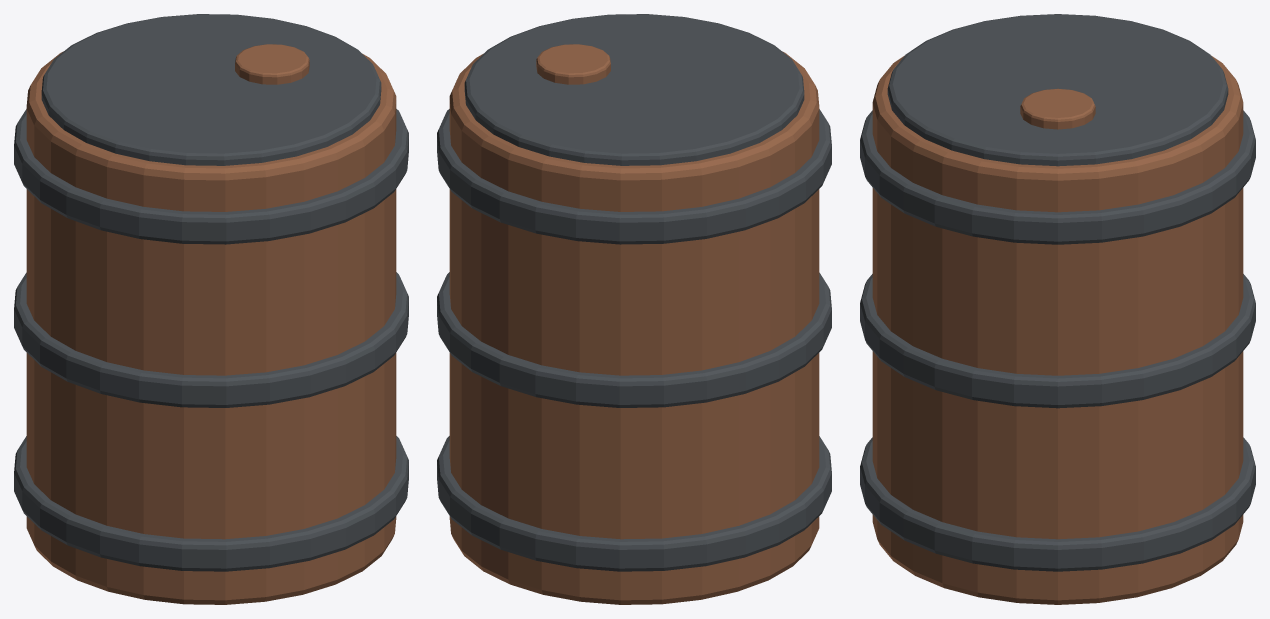
The model's file is barrel.glb.
3 renders of one model, left to right at view 1: azimuth 30°, elevation 25°; view 2: azimuth 150°, elevation 25°; view 3: azimuth 270°, elevation 25°, orthographic.
Visible parts, largest first — view 1: barrel; view 2: barrel; view 3: barrel.
Boxes of the visible parts, bbox=[...] form: barrel: bbox=[14, 14, 408, 604]; barrel: bbox=[437, 14, 831, 604]; barrel: bbox=[860, 14, 1255, 604].
Bounding box in the file's own units: 0.79 × 1 × 0.79.
